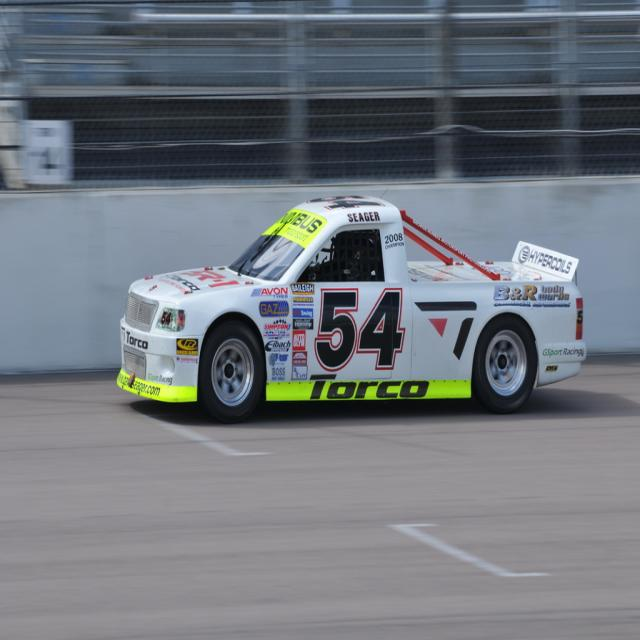car: (104, 191, 591, 425)
